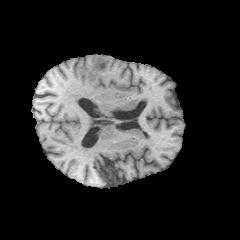glioma: (86, 56, 112, 85)
